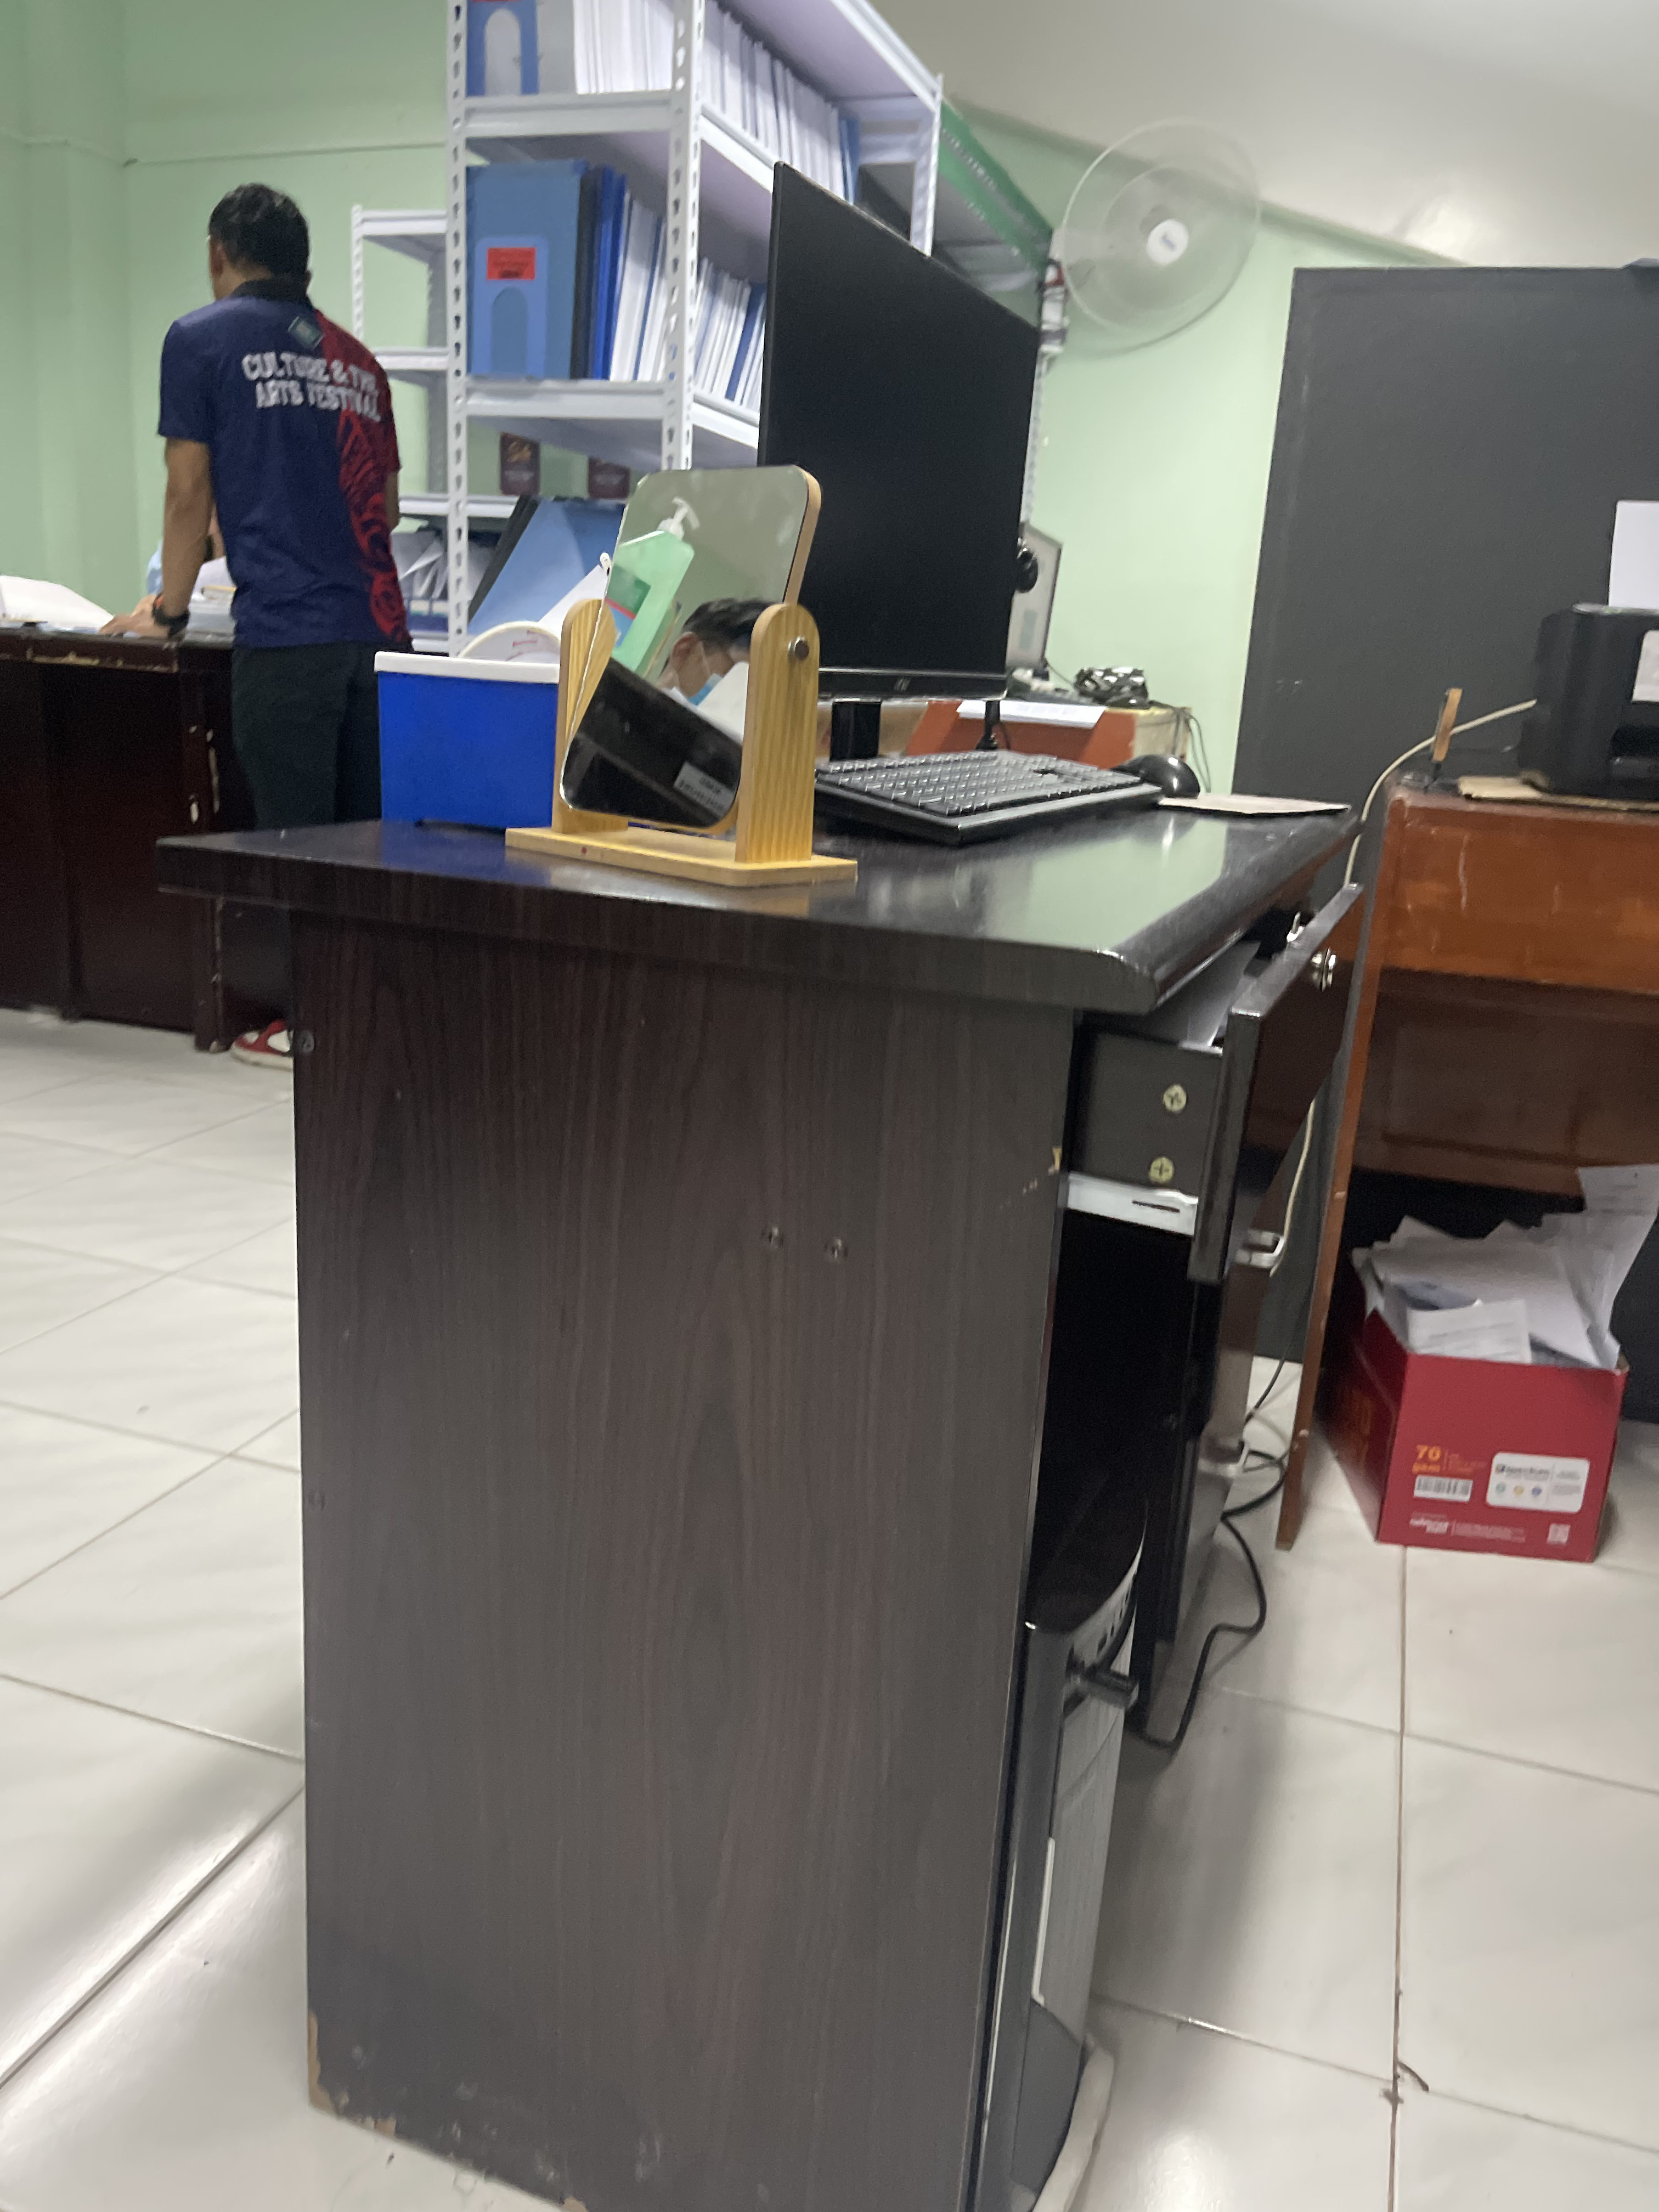table1: (150, 754, 1419, 2212)
